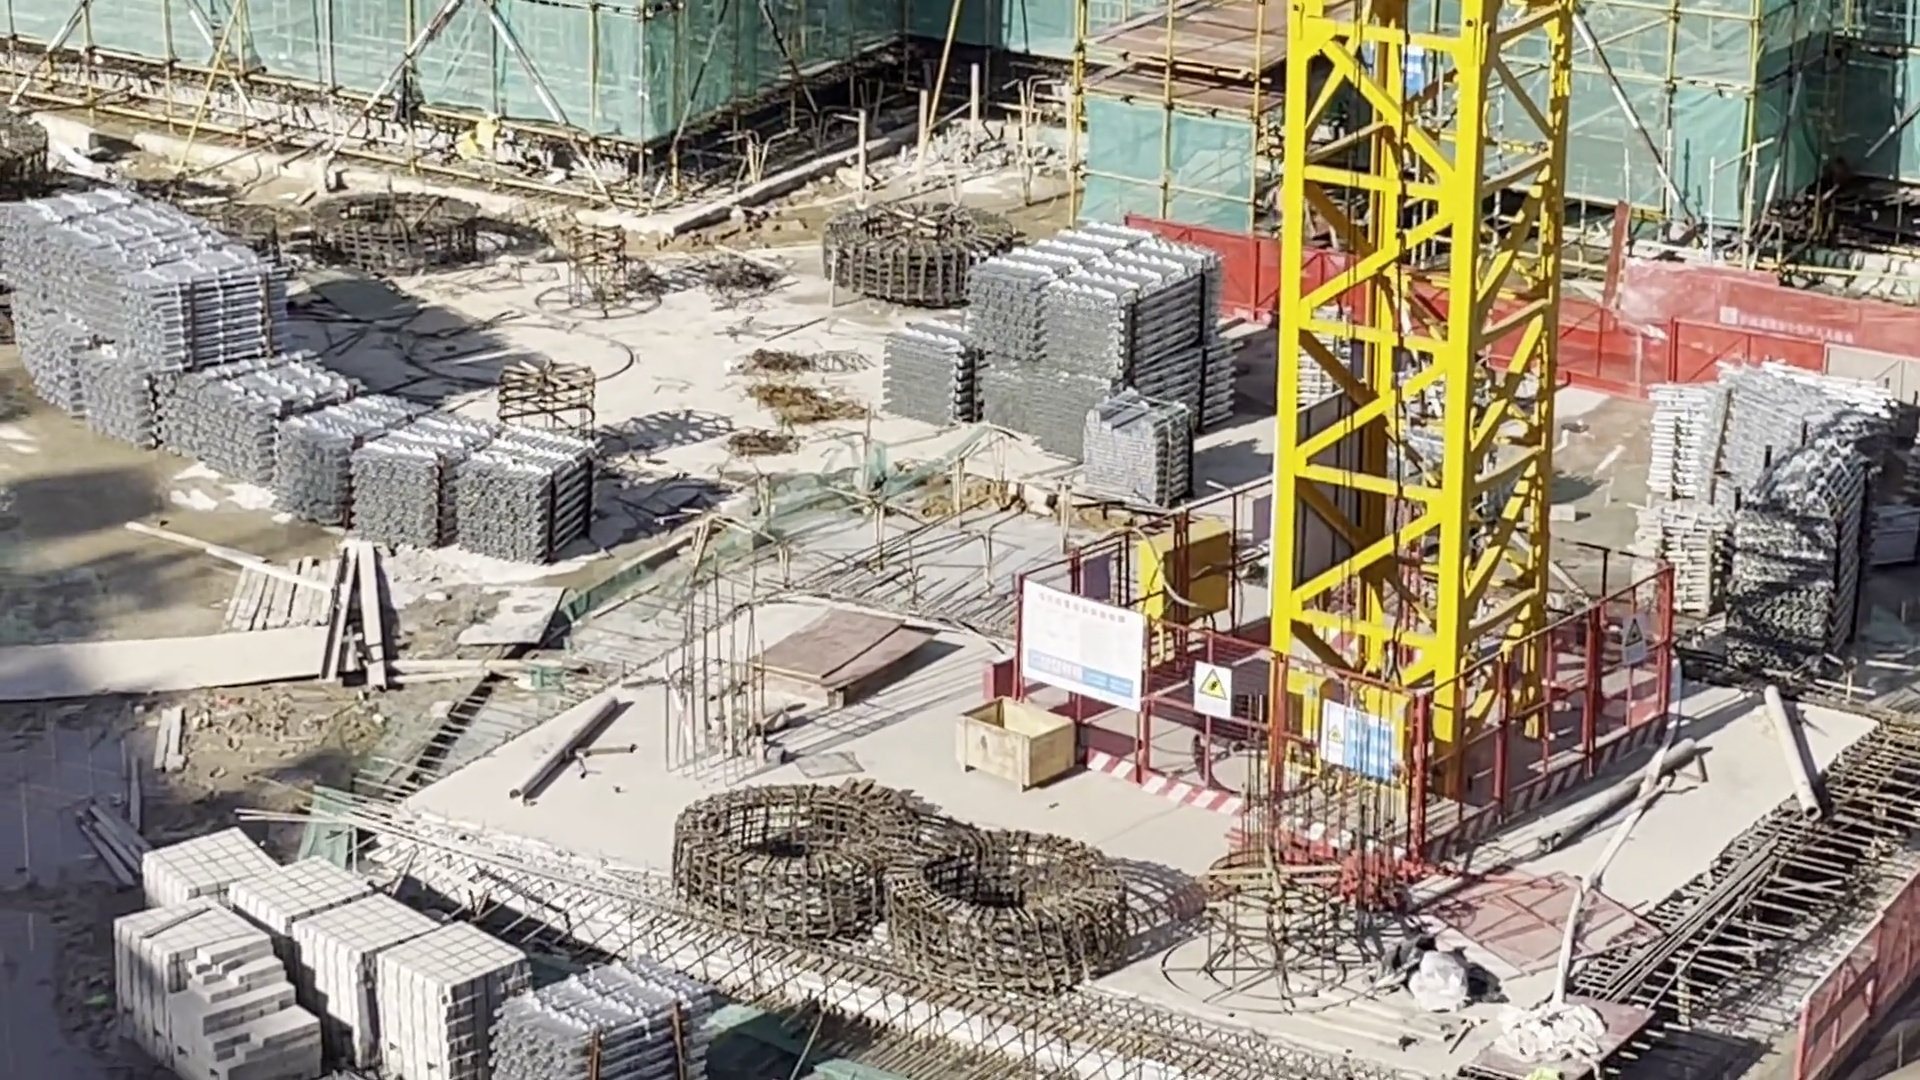board: (756, 618, 916, 703)
brick: (124, 837, 509, 1068)
ebox: (1146, 527, 1228, 620)
fence: (1563, 273, 1920, 397), (1804, 880, 1917, 1080)
scaffold: (4, 193, 285, 450), (969, 229, 1236, 446), (1643, 377, 1859, 640), (280, 396, 498, 546), (498, 961, 707, 1080), (200, 349, 363, 477), (462, 427, 600, 572), (1083, 392, 1193, 512), (885, 305, 977, 423)
slogan: (1324, 705, 1390, 781), (1192, 662, 1229, 716), (1621, 612, 1647, 661)
